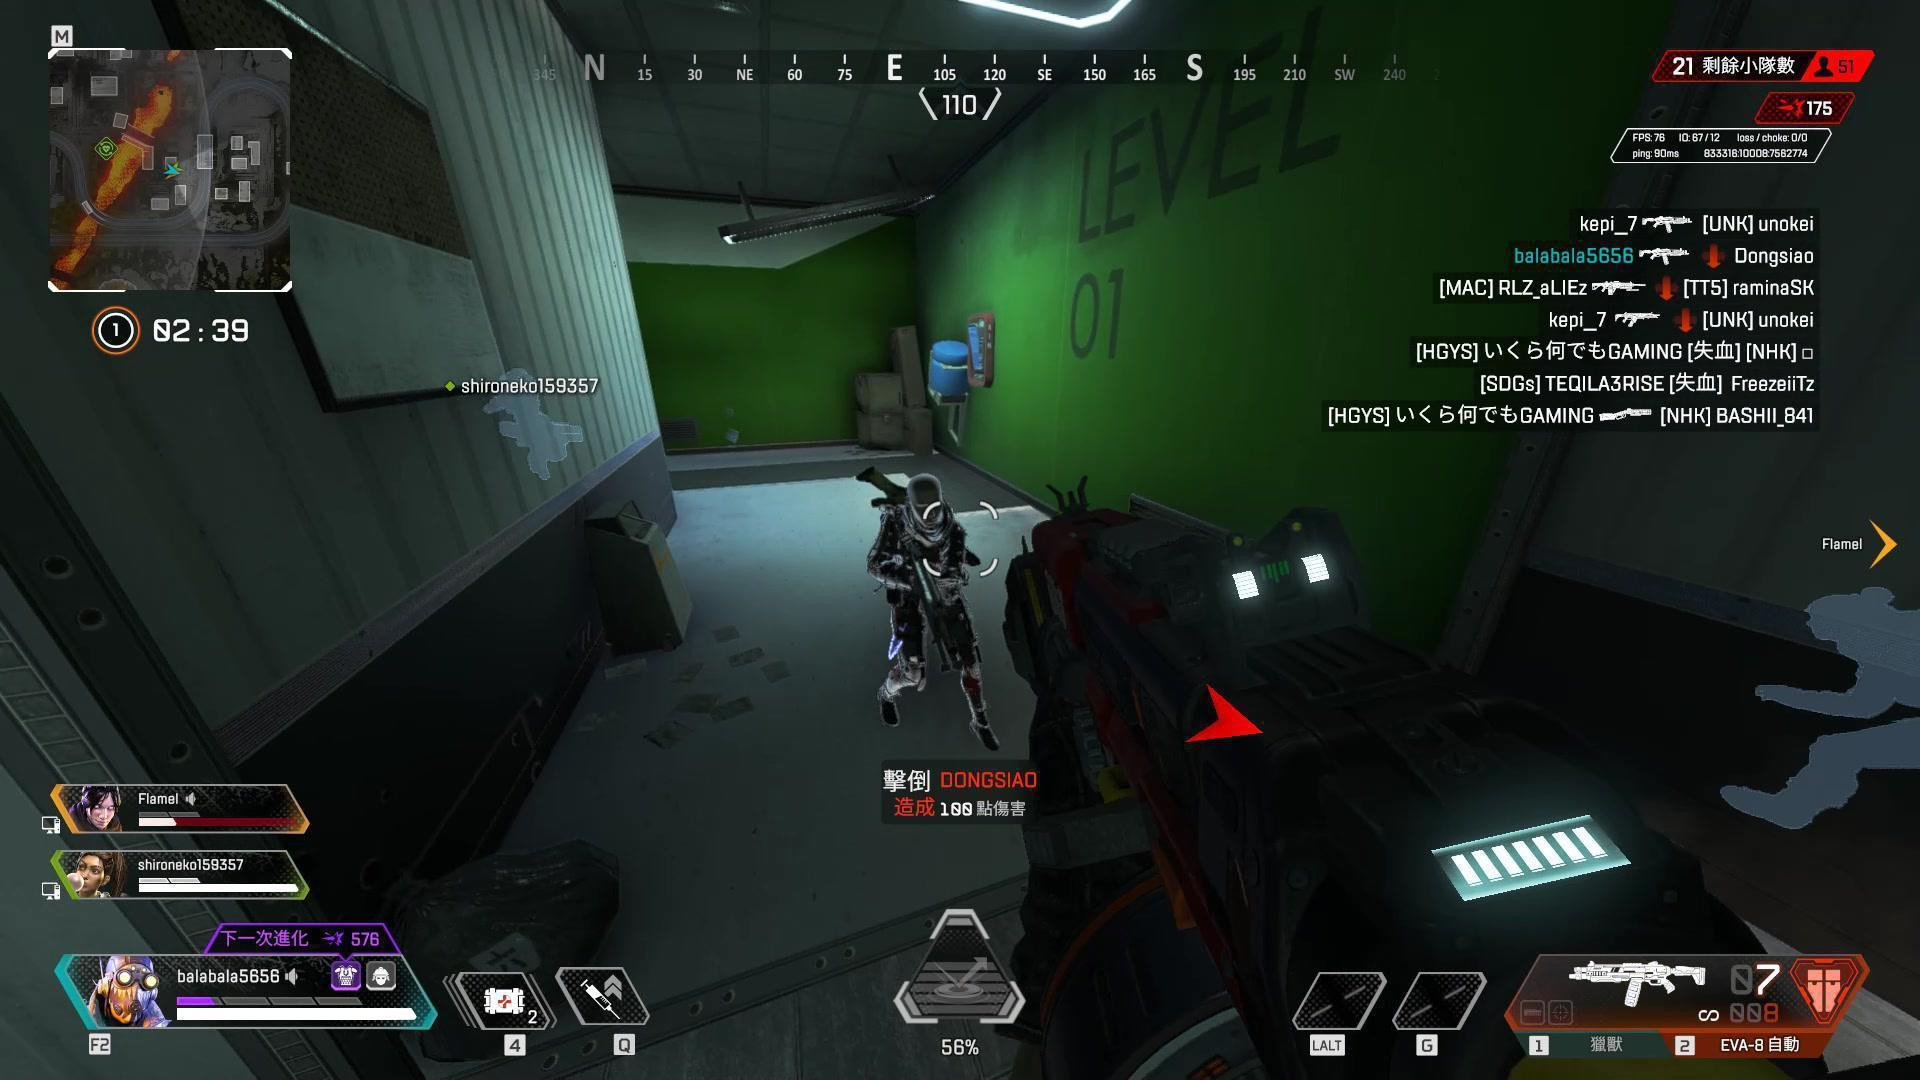avatar: (864, 471, 1002, 753)
